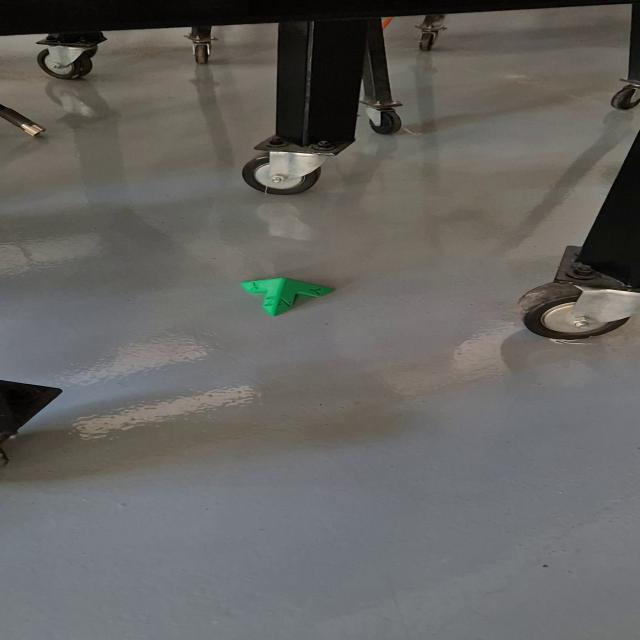objects: (238, 276, 337, 318)
